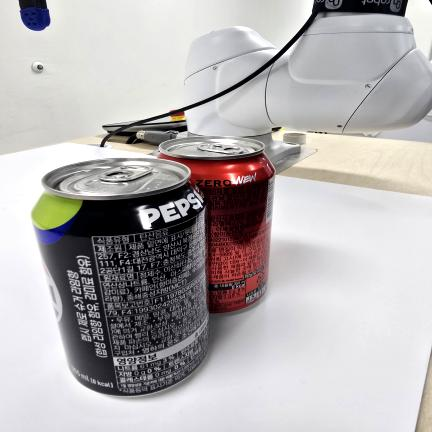can_coke_zero: (156, 136, 273, 310)
can_pepsi_zero: (29, 157, 209, 397)
